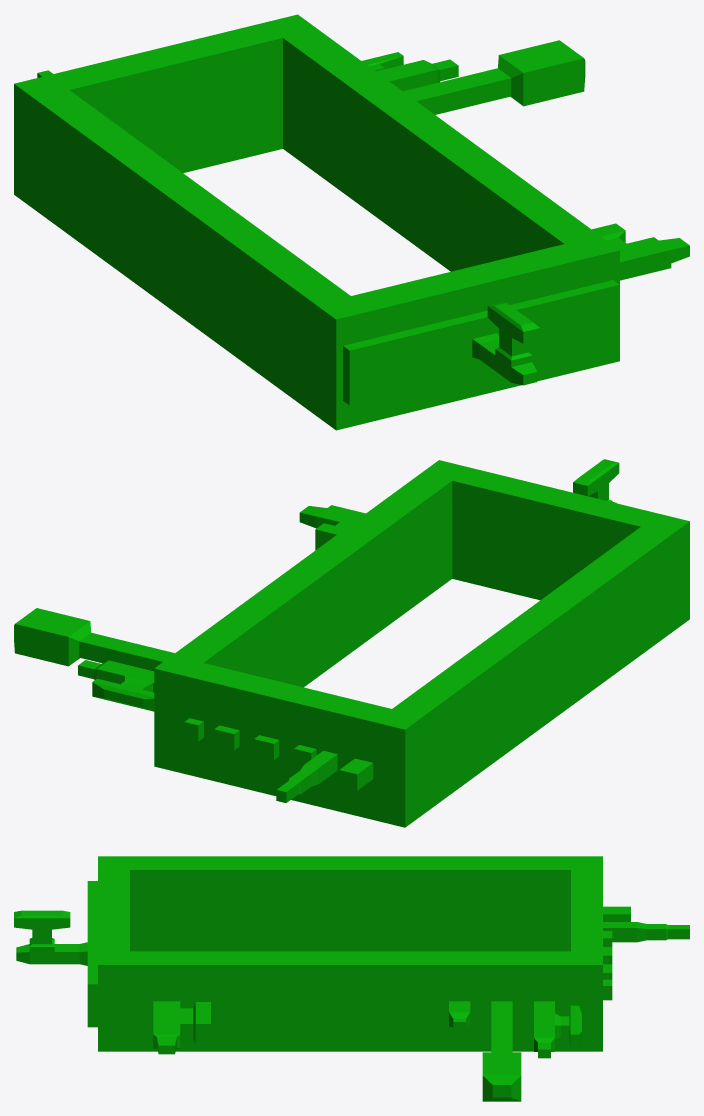
The model's file is pbr_small_green.obj.
3 renders of one model, top to bottom at view 1: azimuth 30°, elevation 25°; view 2: azimuth 150°, elevation 25°; view 3: azimuth 270°, elevation 25°, orthographic. The views are drawn at different scales.
Visible parts, largest first — view 1: Cube; view 2: Cube; view 3: Cube.
Boxes of the visible parts, x1,y1,x2,y2 form: Cube: (14,14,689,430); Cube: (14,459,689,827); Cube: (14,856,689,1101).
Bounding box in the file's own units: 3.94 × 0.8342 × 5.88.
